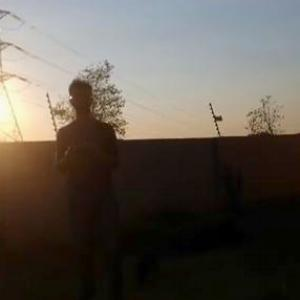follow: (54, 73, 130, 296)
